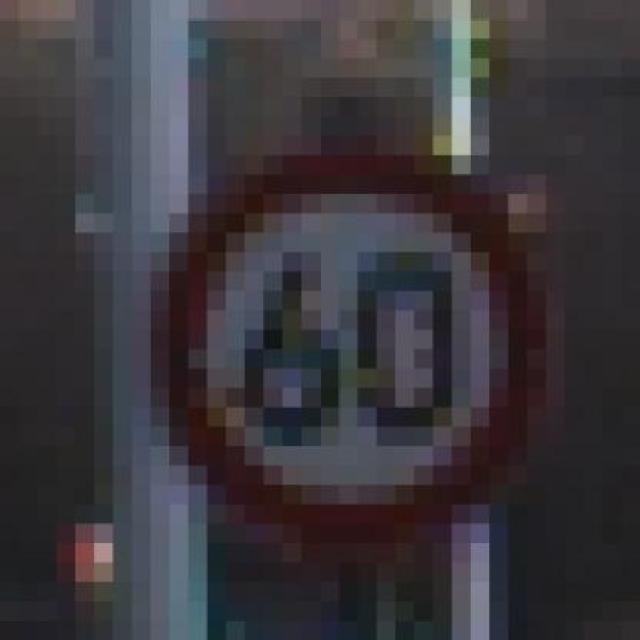forb_speed_over_60: (173, 150, 524, 532)
